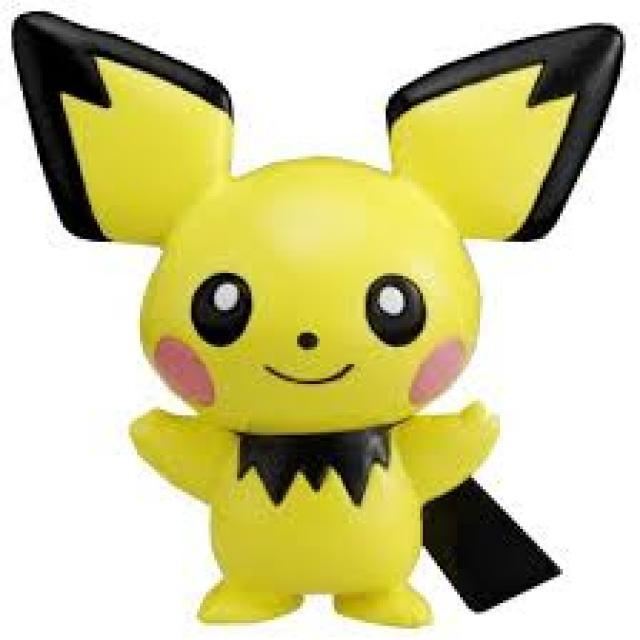pichu: (9, 5, 626, 617)
